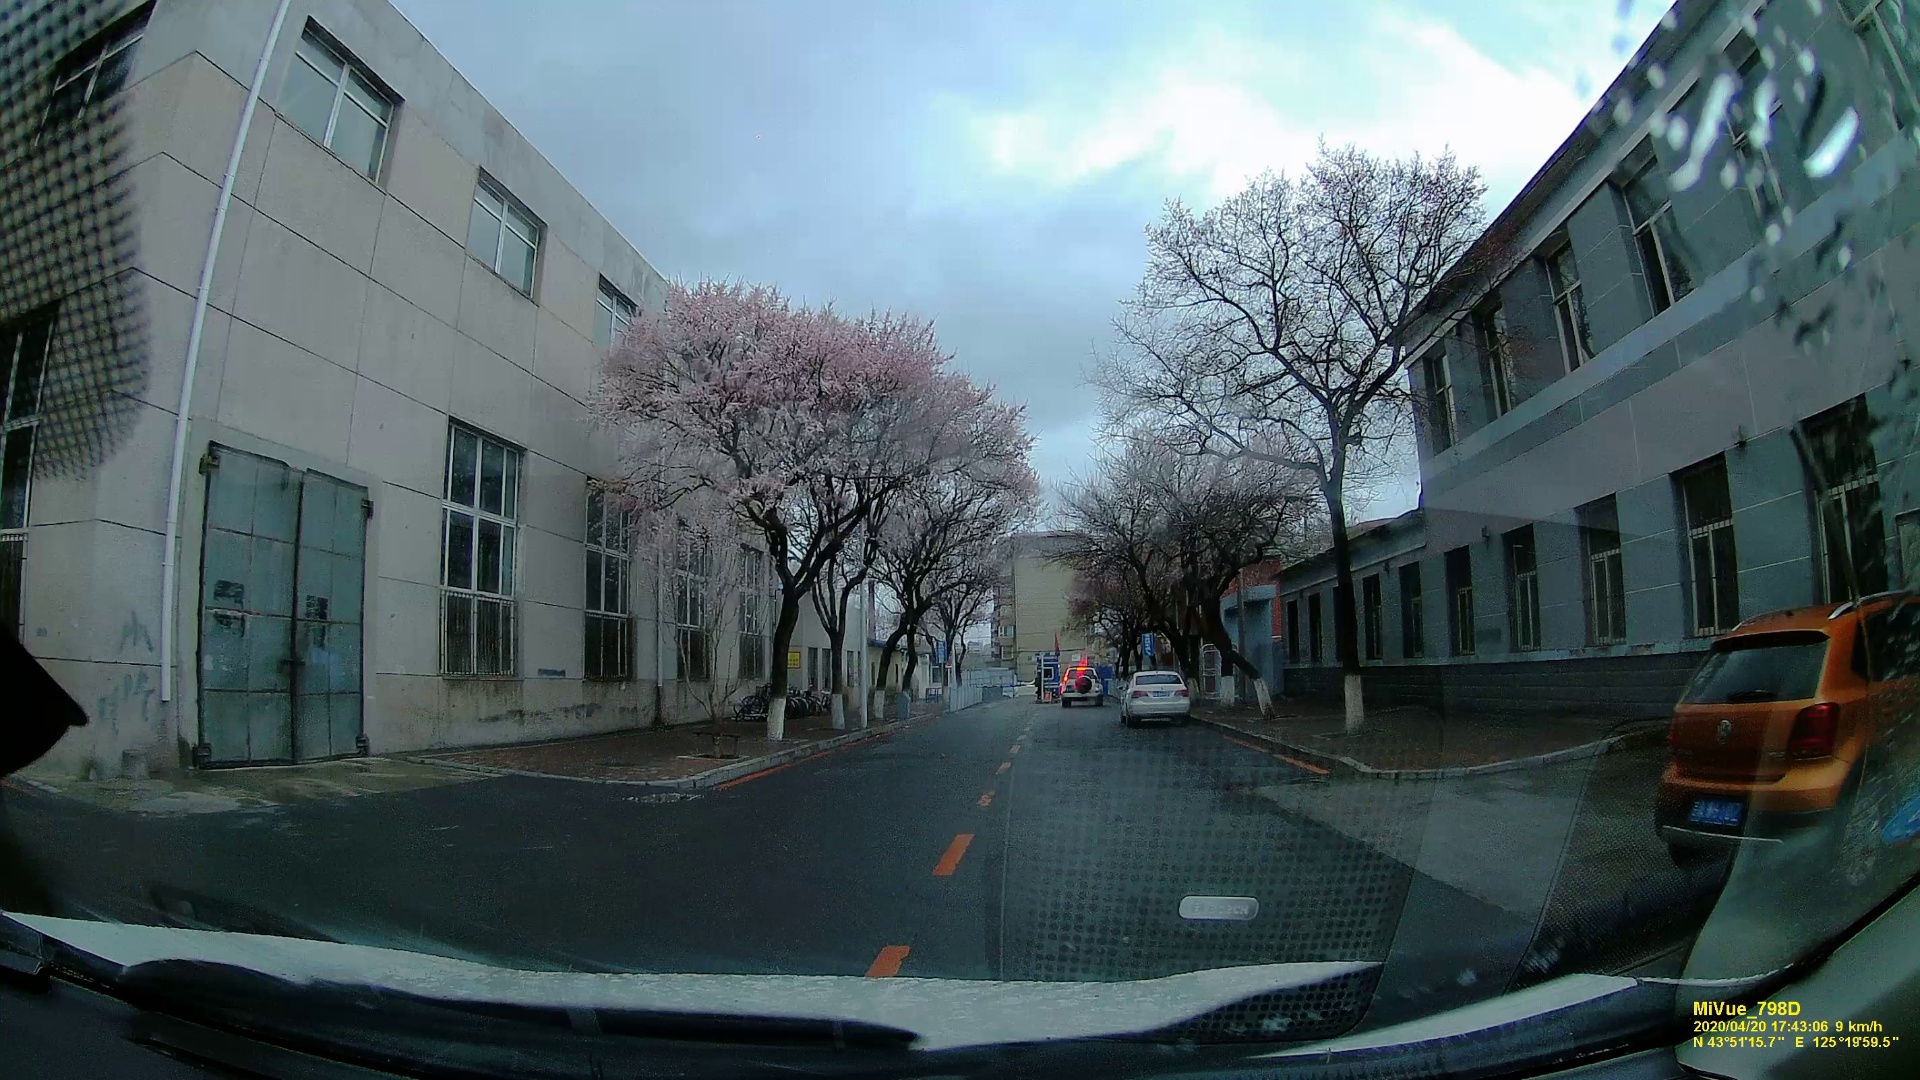vehicle: (1651, 616, 1887, 861), (1120, 669, 1192, 727), (1058, 665, 1106, 709)
